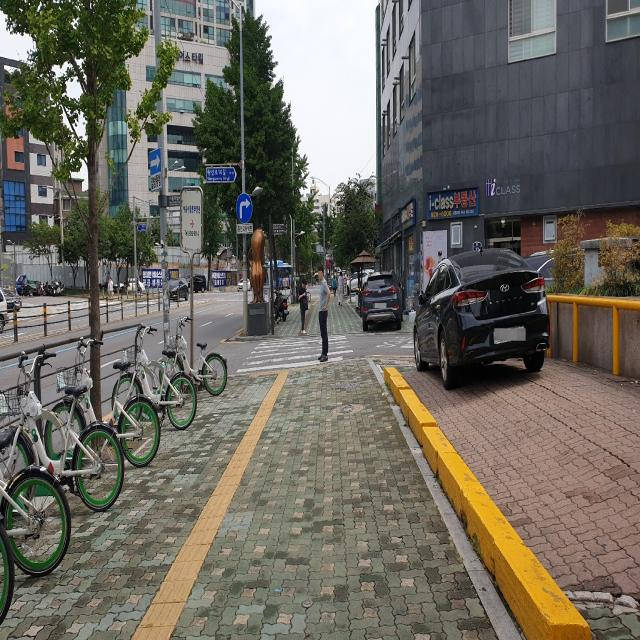횡단보도: (236, 334, 353, 374)
